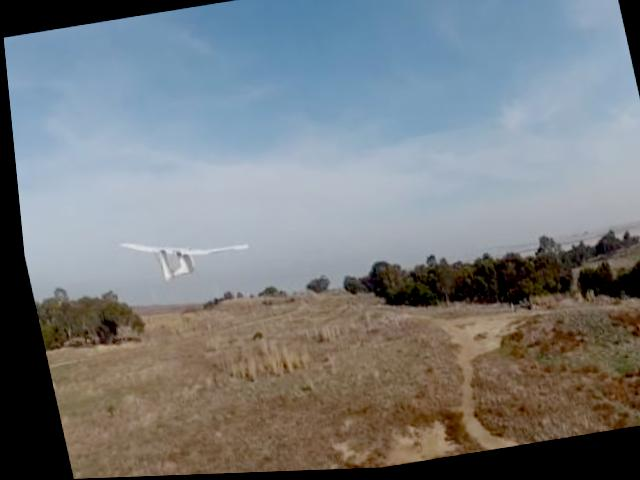uav: (102, 215, 257, 306)
